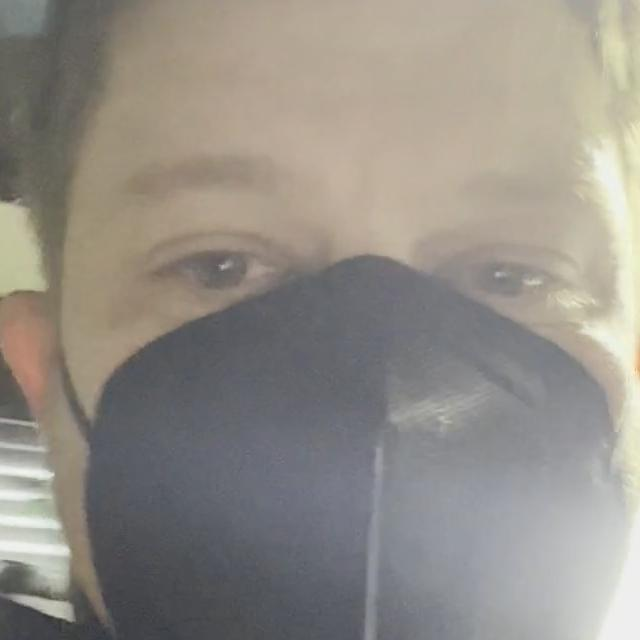Mask: (43, 304, 640, 640)
Person: (0, 0, 640, 640)
